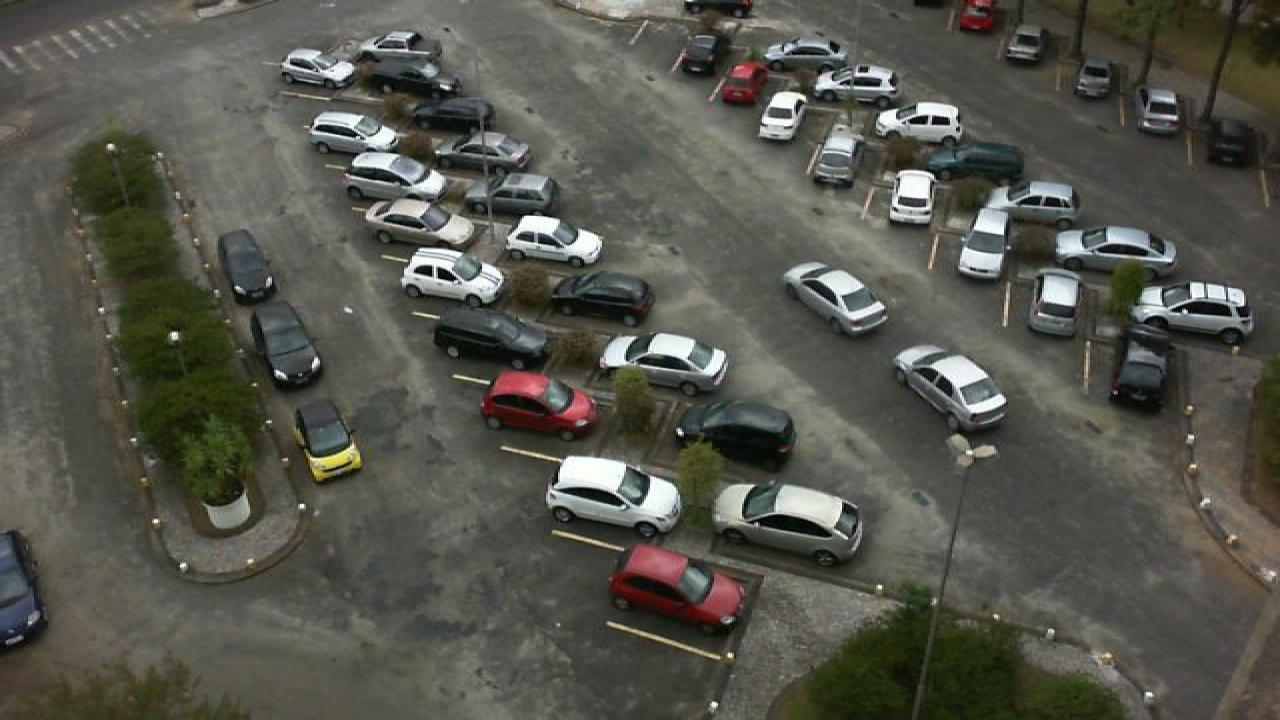Car: (710, 478, 866, 567), (606, 544, 748, 634), (542, 456, 682, 538), (892, 346, 1010, 436), (674, 399, 800, 472), (596, 332, 730, 399), (780, 261, 890, 339), (480, 369, 598, 440), (432, 306, 550, 370), (1140, 282, 1256, 346), (248, 299, 324, 389), (1052, 226, 1178, 276), (400, 248, 506, 307), (364, 197, 478, 251), (550, 270, 658, 326), (294, 399, 364, 484), (340, 152, 450, 204), (504, 214, 604, 268), (974, 182, 1084, 228), (218, 228, 278, 306), (432, 130, 532, 176), (918, 142, 1028, 183), (460, 173, 560, 218), (954, 208, 1016, 280), (308, 112, 404, 158), (1108, 341, 1166, 414), (872, 101, 966, 145), (368, 58, 464, 98), (812, 64, 900, 106), (1028, 268, 1082, 336), (278, 48, 362, 89), (410, 97, 492, 135), (762, 35, 846, 70), (808, 133, 862, 187), (1204, 114, 1256, 170), (888, 169, 938, 227), (354, 30, 444, 62), (1134, 85, 1188, 135), (756, 91, 804, 142), (672, 31, 722, 78), (718, 58, 766, 104), (1000, 25, 1046, 66), (1072, 56, 1114, 100), (680, 0, 756, 18), (954, 0, 996, 32)
